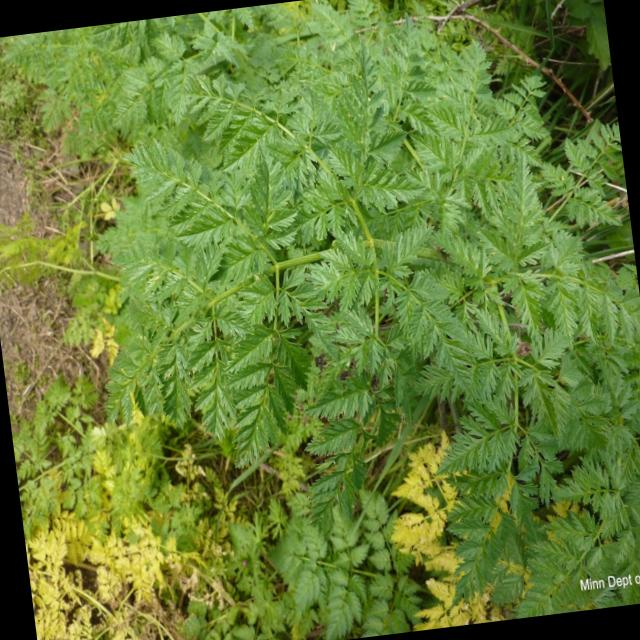Poisonous-Hemlock: (70, 0, 512, 434), (461, 410, 640, 622)
